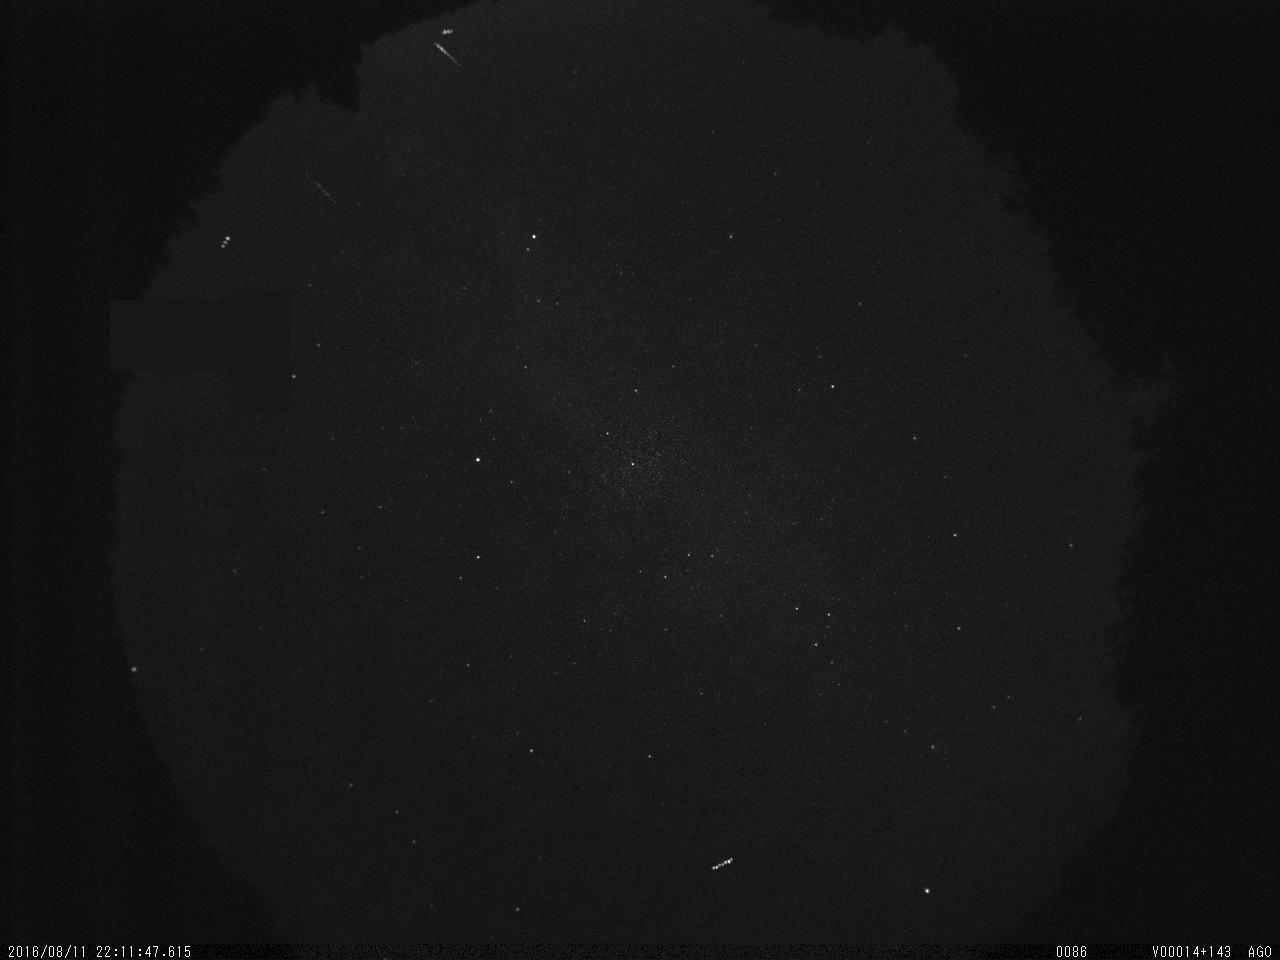meteor: (430, 40, 465, 68)
satelite: (701, 843, 743, 881), (438, 25, 458, 39)
